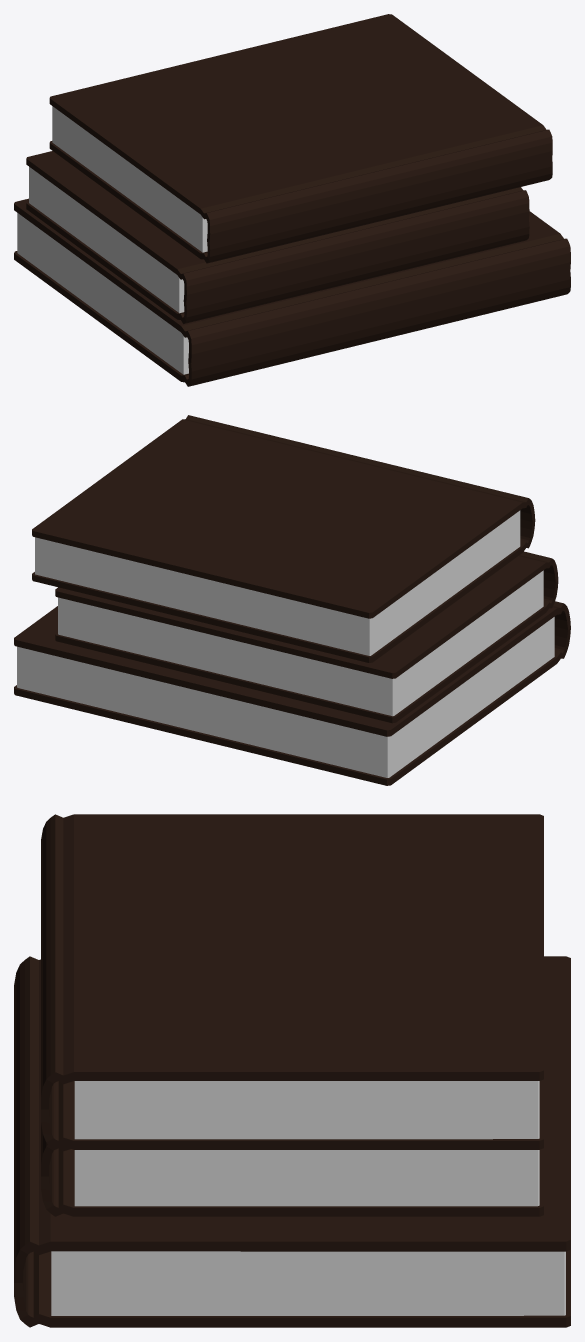
The model's file is Livros.fbx.
3 views of the same model, one above another, from view 1: azimuth 30°, elevation 25°; view 2: azimuth 150°, elevation 25°; view 3: azimuth 270°, elevation 25° (orthographic). The views are drawn at different scales.
Parts seen in each view (by area): view 1: LivroC, LivroA, LivroB; view 2: LivroC, LivroA, LivroB; view 3: LivroC, LivroA, LivroB.
Part boxes in pixels (x1=…): LivroC: x1=49, y1=14, x2=552, y2=263; LivroA: x1=14, y1=198, x2=570, y2=386; LivroB: x1=26, y1=151, x2=529, y2=323; LivroC: x1=32, y1=415, x2=535, y2=662; LivroA: x1=14, y1=601, x2=570, y2=785; LivroB: x1=55, y1=551, x2=558, y2=723; LivroC: x1=41, y1=814, x2=543, y2=1149; LivroA: x1=14, y1=956, x2=570, y2=1327; LivroB: x1=41, y1=1123, x2=543, y2=1216.
Bounding box in the file's own units: 33.51 × 13.53 × 27.5.
